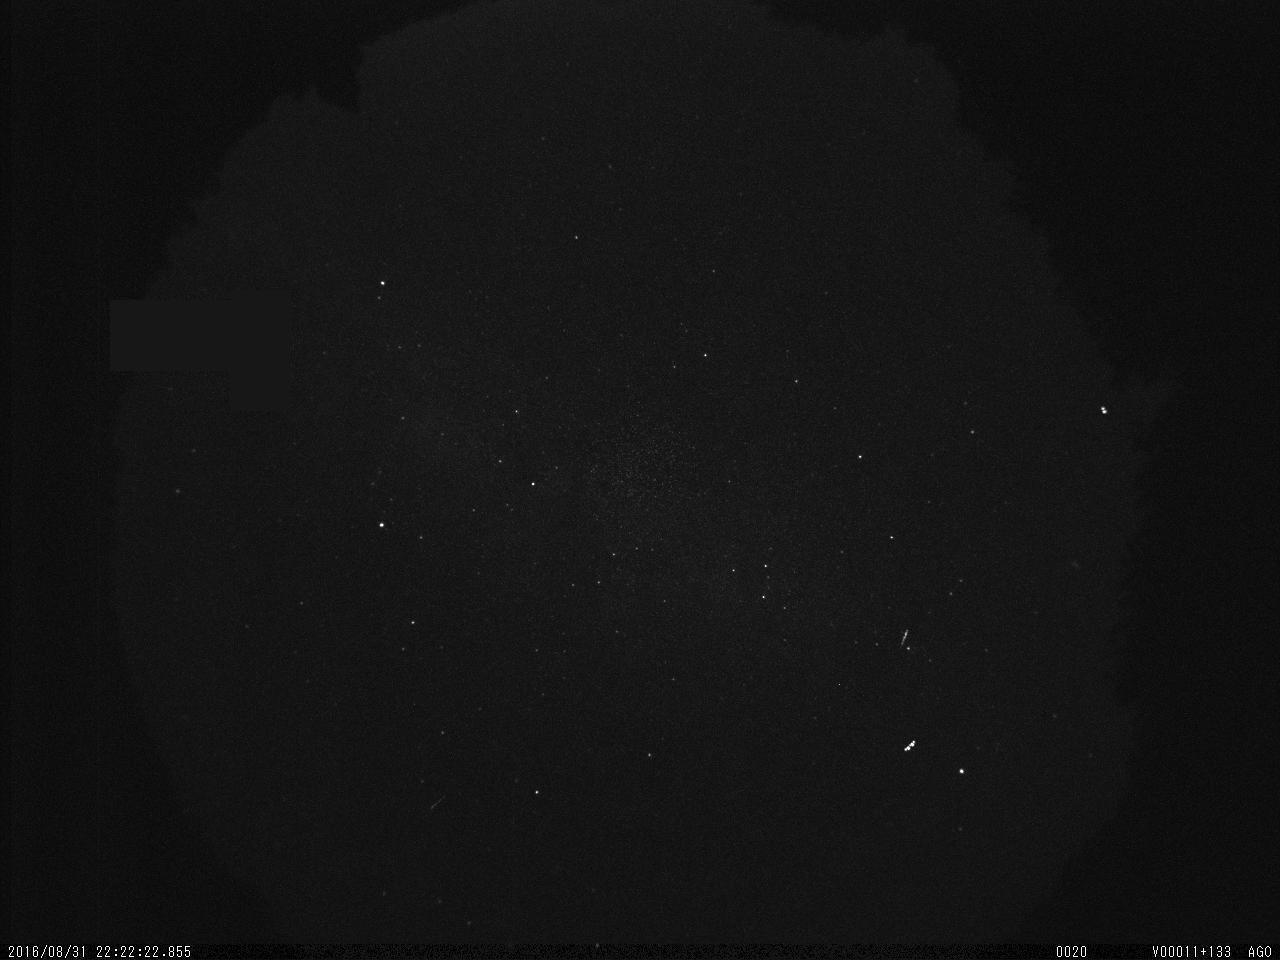Meteor: (898, 626, 912, 650)
